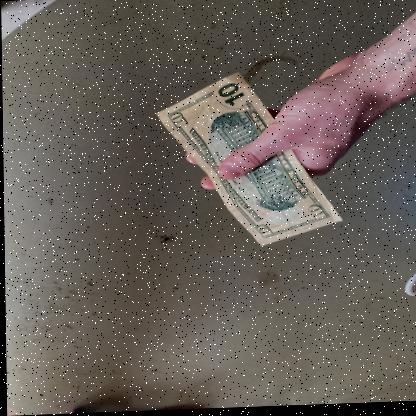ten-back: (154, 72, 341, 247)
